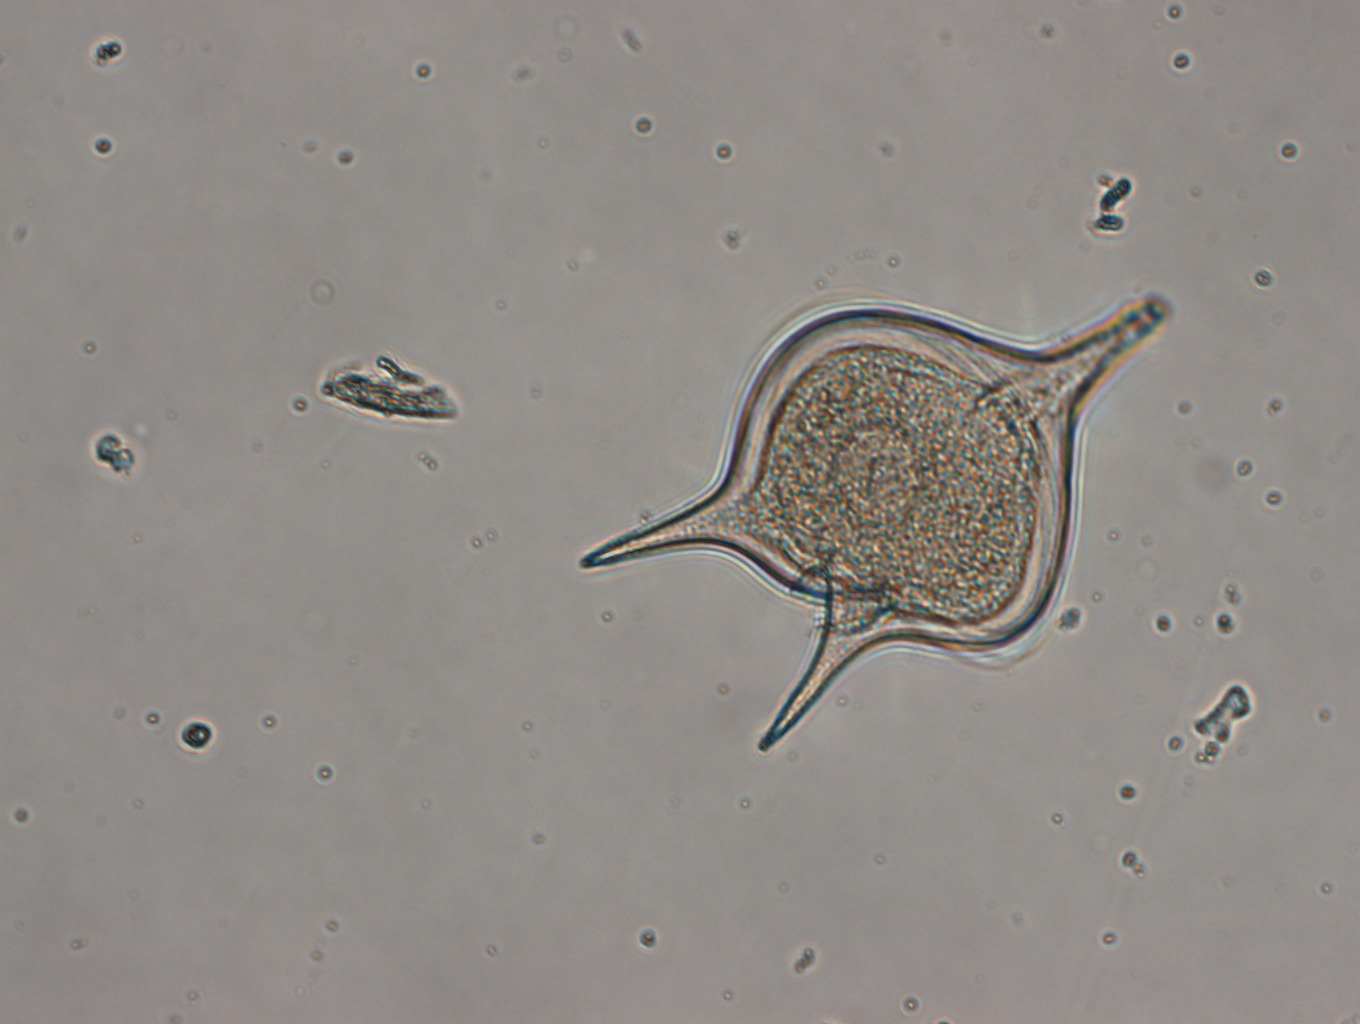protoperidinium: (579, 295, 1168, 751)
